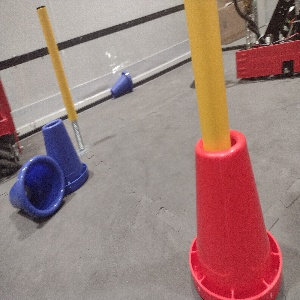Blue_1: (7, 153, 69, 223), (38, 117, 93, 194), (105, 70, 135, 96)
Red_1: (186, 126, 284, 299)
